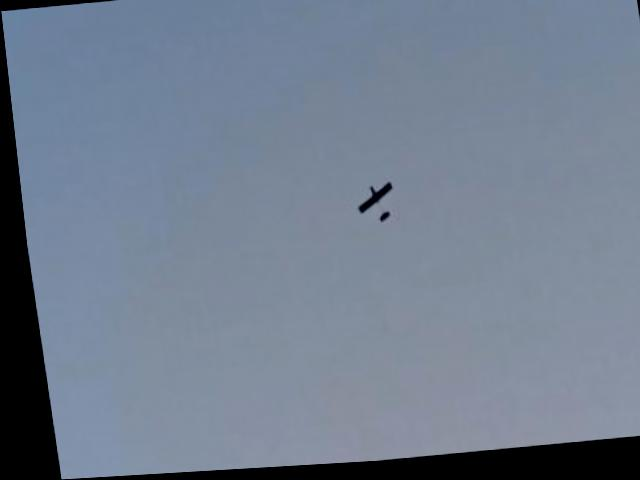uav: (344, 178, 399, 234)
